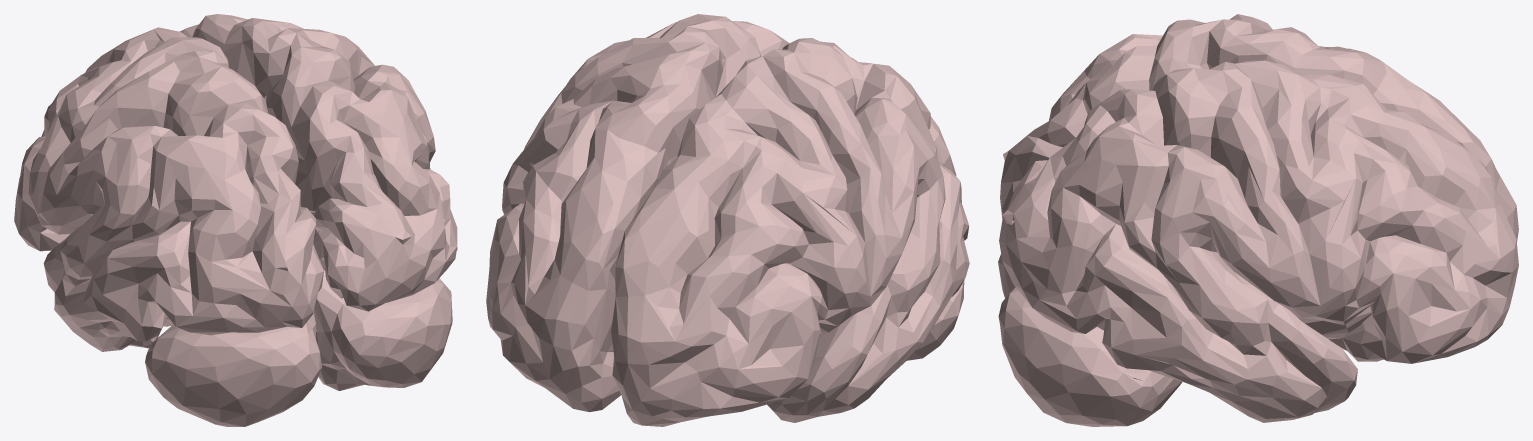
The model's file is brain_pink.glb.
3 renders of one model, left to right at view 1: azimuth 30°, elevation 25°; view 2: azimuth 150°, elevation 25°; view 3: azimuth 270°, elevation 25°, orthographic. The views are drawn at different scales.
Parts seen in each view (by area): view 1: Free_Brain.obj; view 2: Free_Brain.obj; view 3: Free_Brain.obj.
Part boxes in pixels (x1,y1,x2,y2): Free_Brain.obj: (14, 14, 457, 426); Free_Brain.obj: (486, 14, 969, 426); Free_Brain.obj: (998, 14, 1518, 426).
Bounding box in the file's own units: 1.69 × 1.43 × 2.
